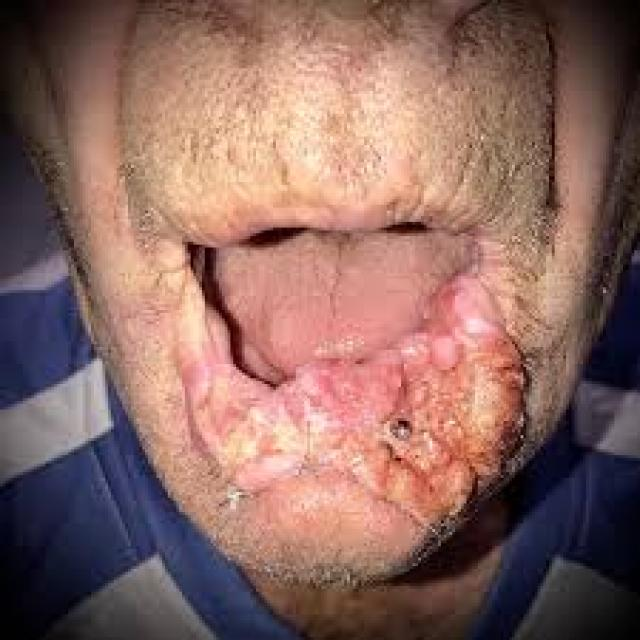Cancer: (213, 278, 522, 516)
